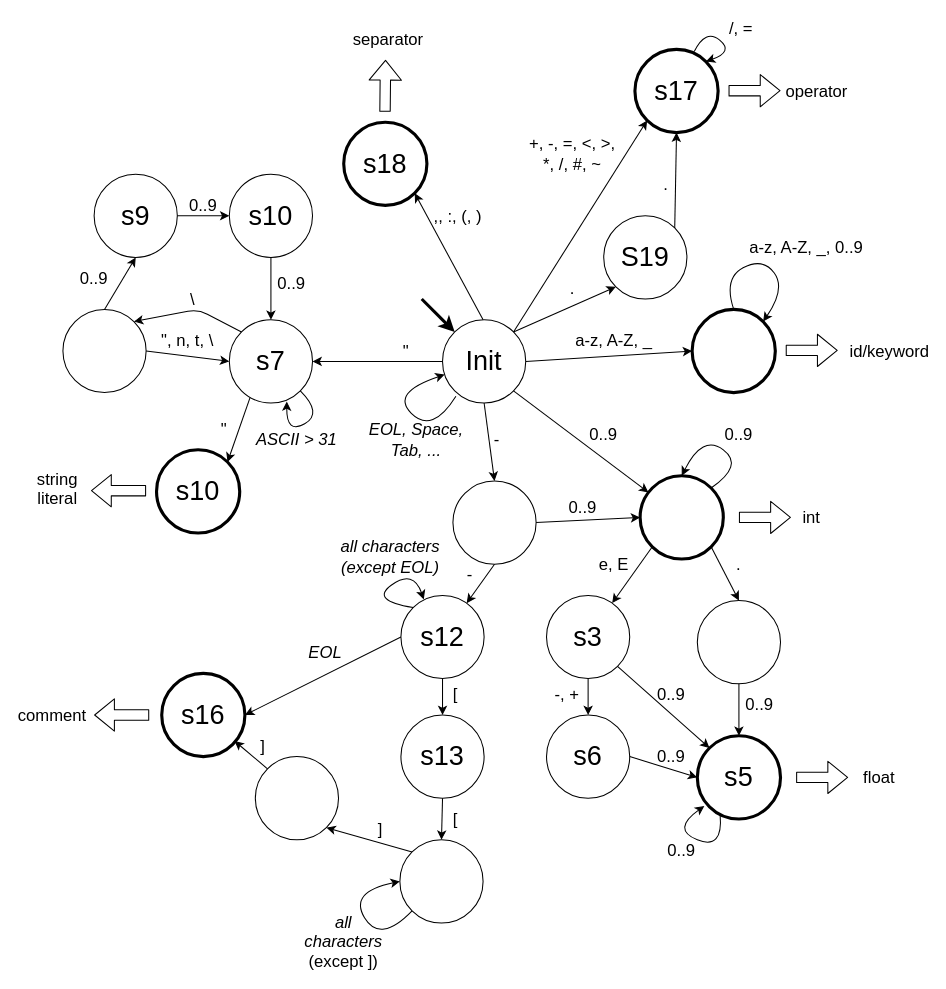
This 946x989 diagram has some shape labels left out. Here are the shapes that lost their labels. From the top down, the box of each, then its label:
(62, 308, 146, 393): s8
(690, 307, 776, 394): s1
(452, 480, 536, 564): s11
(638, 474, 724, 560): s2
(696, 600, 781, 684): s4
(254, 756, 339, 840): s15
(399, 839, 483, 923): s14
